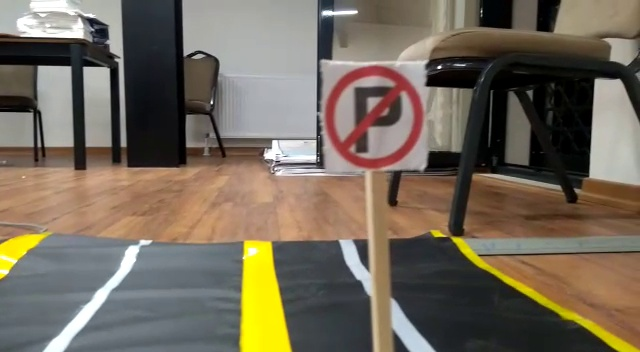park_yapilmaz: (320, 61, 424, 175)
